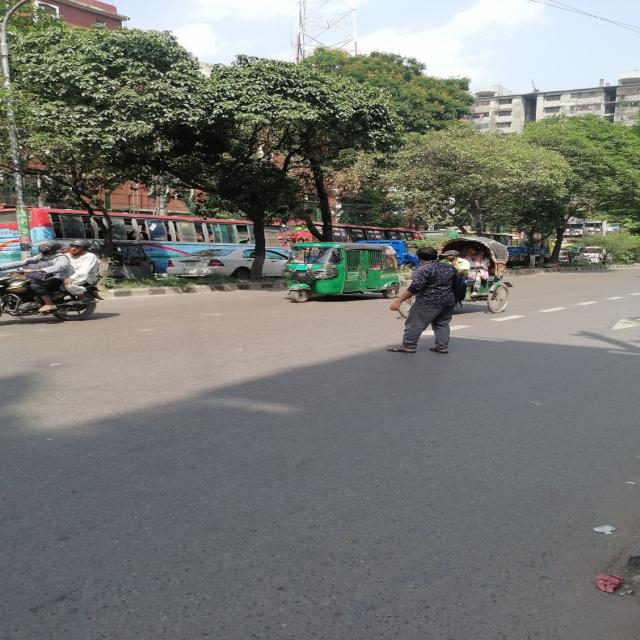person: (387, 247, 457, 355)
